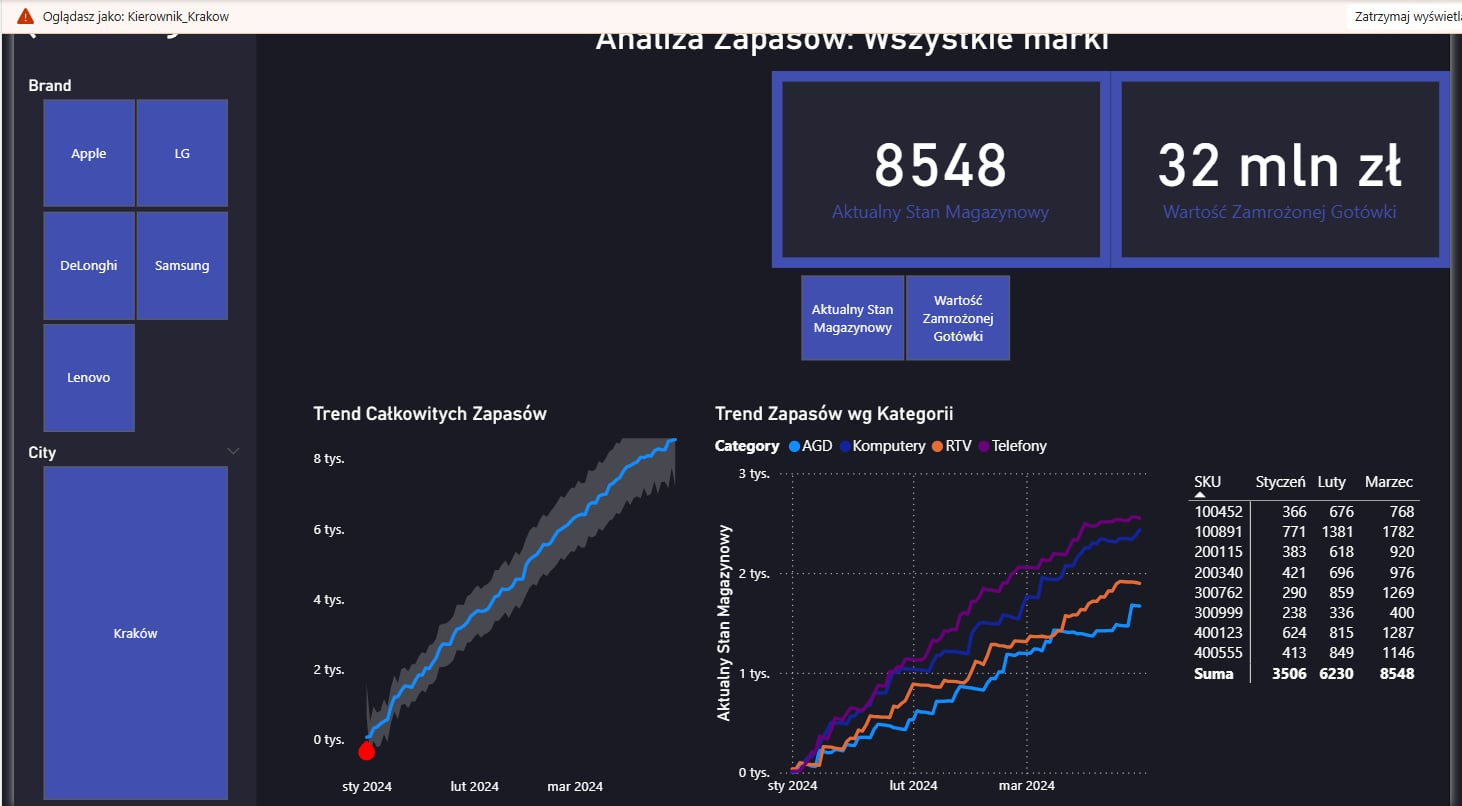

The dashboard page shown, as its layout file describes it:
{"tool":"powerbi","page":{"name":"Overview","canvas":[1280,720],"ordinal":0},"visuals":[{"type":"pivotTable","fields":{"Rows":["Dim_Product.Product_Number"],"Values":["_Miary.Aktualny Stan Magazynowy"],"Columns":["Fact_Snapshots.Miesiąc"]},"box":[1042,414.7,238.1,305.1],"z":0},{"type":"shape","box":[0,63.5,215,656.7],"z":500,"group":"g1"},{"type":"shape","box":[0,0,216.2,719.7],"z":1000,"group":"g1"},{"type":"card","fields":{"Values":["_Miary.Wartość Zamrożonej Gotówki"]},"box":[977.7,63.3,302.3,175.7],"z":1000},{"type":"card","fields":{"Values":["_Miary.Aktualny Stan Magazynowy"]},"box":[675.4,63.3,302.3,175.7],"z":2000},{"type":"lineChart","title":"Trend Zapasów wg Kategorii","fields":{"Y":["_Miary.Aktualny Stan Magazynowy"],"Category":["Dim_Date.Date"],"Series":["Dim_Product.Category"]},"box":[619.7,358,413.8,361.8],"z":3000},{"type":"slicer","fields":{"Values":["Wybór Miary.Wybór Miary"]},"box":[675.4,239,236.2,88.8],"z":4000},{"type":"group","id":"g1","title":"Panel Filtrów","box":[0,0,216.3,719.8],"z":5000},{"type":"slicer","fields":{"Values":["Dim_Location.City"]},"box":[0,390.1,214.7,329.6],"z":6000,"group":"g1"},{"type":"slicer","fields":{"Values":["Dim_Product.Brand"]},"box":[0,63.6,214.8,328.4],"z":7000,"group":"g1"},{"type":"lineChart","title":"Trend Całkowitych Zapasów","fields":{"Y":["_Miary.Aktualny Stan Magazynowy"],"Category":["Dim_Date.Date"]},"box":[261.7,358,358,361.8],"z":7000},{"type":"actionButton","box":[0,0,100.1,39.7],"z":7500,"group":"g1"},{"type":"actionButton","box":[116.2,0,99.2,39.7],"z":8000},{"type":"card","fields":{"Values":["_Miary.Dynamiczny Tytul"]},"box":[214.5,0,1066,63.1],"z":9000}]}

Visuals, with their boxes on the page's 1280x720 design canvas (x1, y1, x2, y2). These are canvas units, not pixel positions in the 1462x806 screenshot, which may show the page scaled, cropped or inside an application window:
pivotTable - Dim_Product.Product_Number x _Miary.Aktualny Stan Magazynowy: 1042:415:1280:720
shape: 0:64:215:720
shape: 0:0:216:720
card - _Miary.Wartość Zamrożonej Gotówki: 978:63:1280:239
card - _Miary.Aktualny Stan Magazynowy: 675:63:978:239
"Trend Zapasów wg Kategorii" lineChart: 620:358:1034:720
slicer - Wybór Miary.Wybór Miary: 675:239:912:328
"Panel Filtrów" group: 0:0:216:720
slicer - Dim_Location.City: 0:390:215:720
slicer - Dim_Product.Brand: 0:64:215:392
"Trend Całkowitych Zapasów" lineChart: 262:358:620:720
actionButton: 0:0:100:40
actionButton: 116:0:215:40
card - _Miary.Dynamiczny Tytul: 214:0:1280:63
